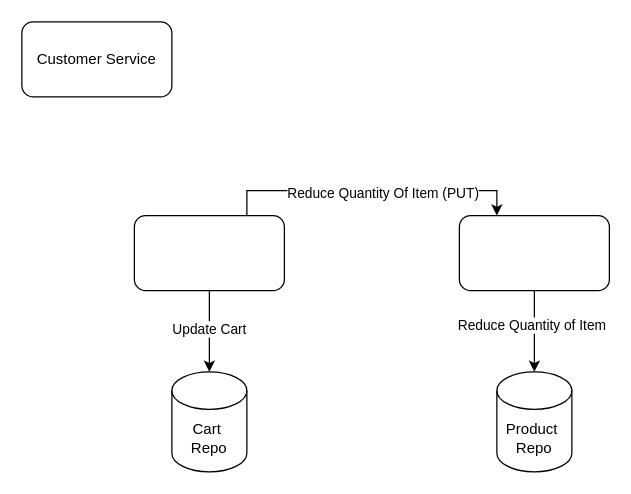
This 631x494 diagram has some shape labels left out. The centre of each missing label's shape, as x and y in pixels:
"Cart Service" goes at pixel 208 252.
"Product Service" goes at pixel 533 252.
